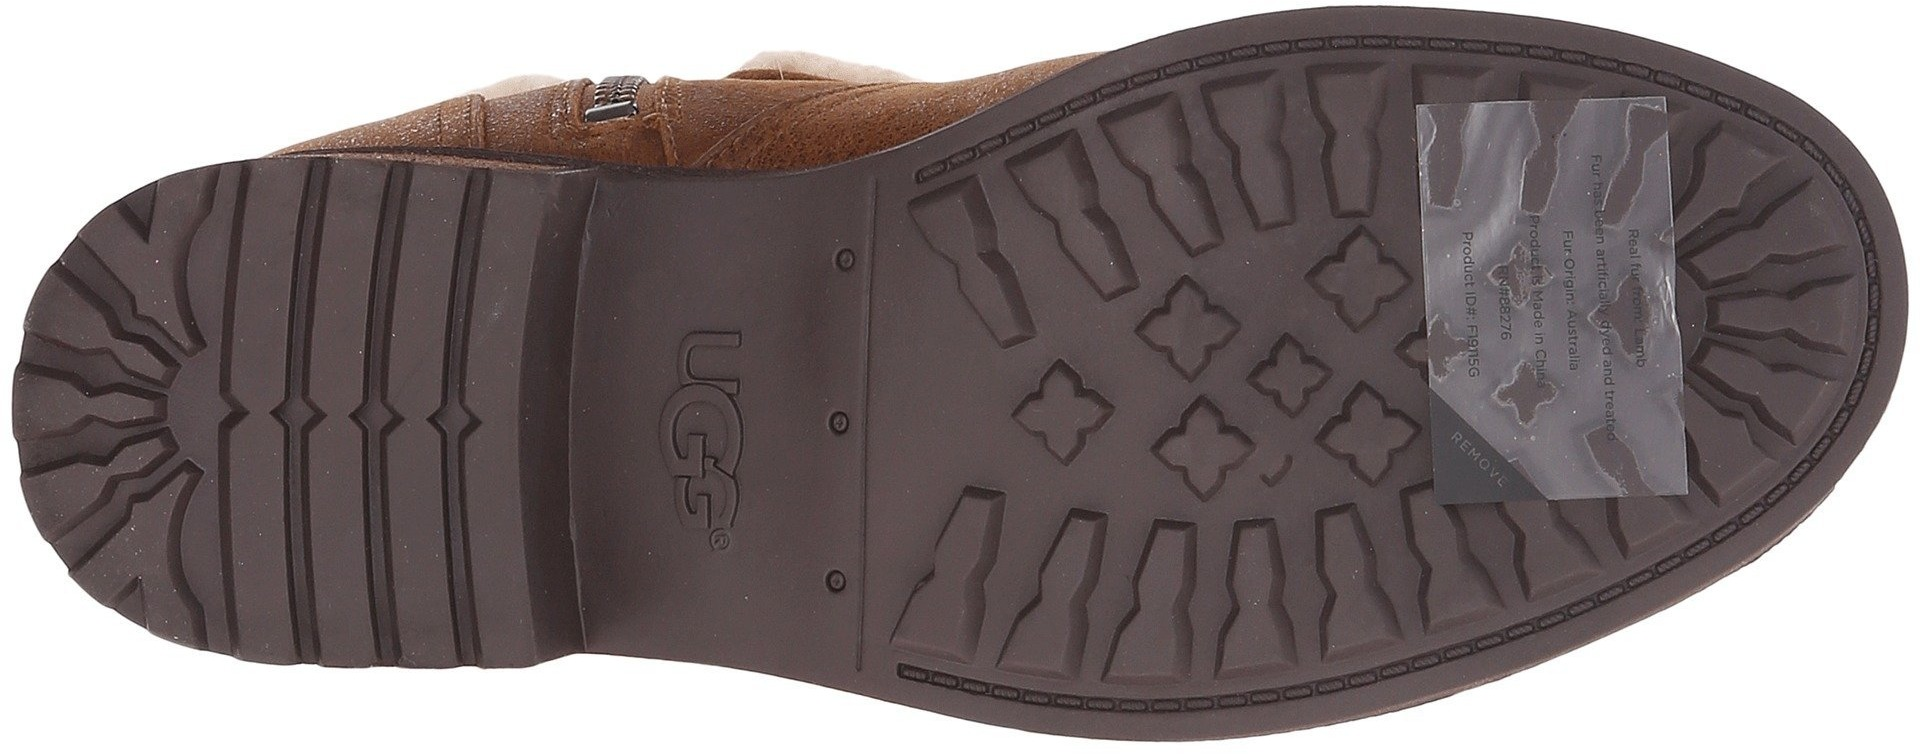bowtie: (1145, 69, 1370, 264), (1048, 503, 1258, 682), (21, 312, 212, 502)
exclude: (524, 102, 884, 715), (1401, 88, 1706, 506)
quad: (252, 174, 474, 394), (238, 442, 458, 657)
star: (1016, 351, 1130, 483), (1147, 274, 1262, 390), (1149, 406, 1255, 510), (1281, 329, 1382, 427)
